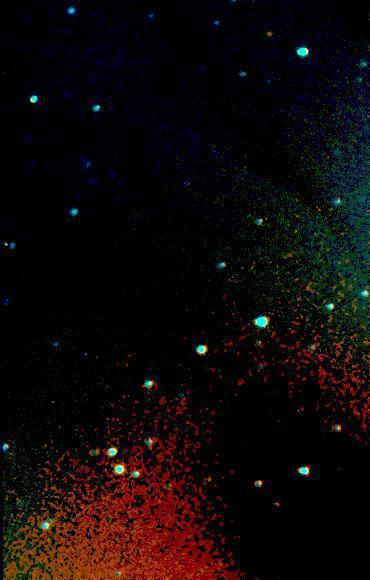star: (254, 20, 284, 50)
